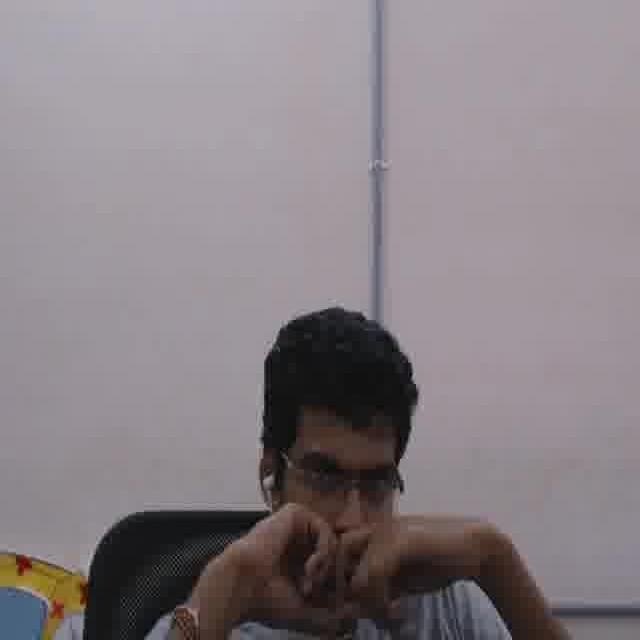Confusion: (273, 402, 407, 610)
